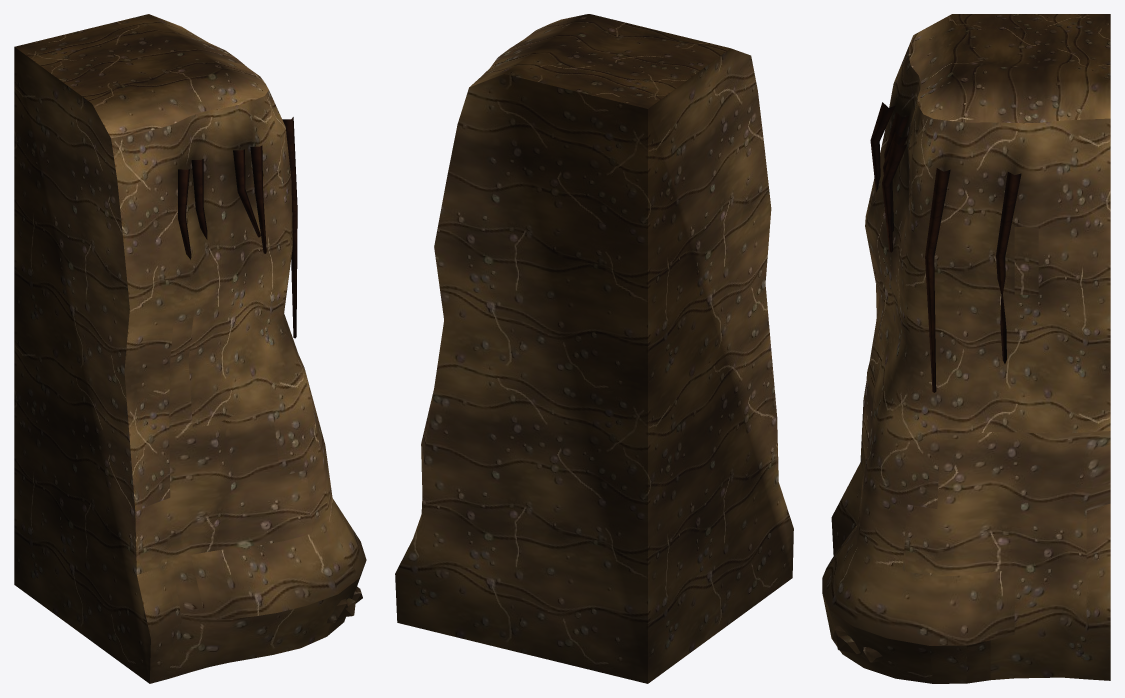
Rendered from cave_wall_mud_corner.glb.
The picture shows the model from 3 angles, left to right: view 1: azimuth 30°, elevation 25°; view 2: azimuth 150°, elevation 25°; view 3: azimuth 270°, elevation 25°; orthographic projection. The views are drawn at different scales.
Visible parts, largest first — view 1: cave_wall_mud_corner; view 2: cave_wall_mud_corner; view 3: cave_wall_mud_corner.
Boxes of the visible parts, bbox=[...] form: cave_wall_mud_corner: bbox=[14, 14, 366, 683]; cave_wall_mud_corner: bbox=[395, 14, 793, 683]; cave_wall_mud_corner: bbox=[822, 14, 1110, 683].
Size of the model in its own units: 1.3 by 2.63 by 1.24.
2 materials, 2 textured.
